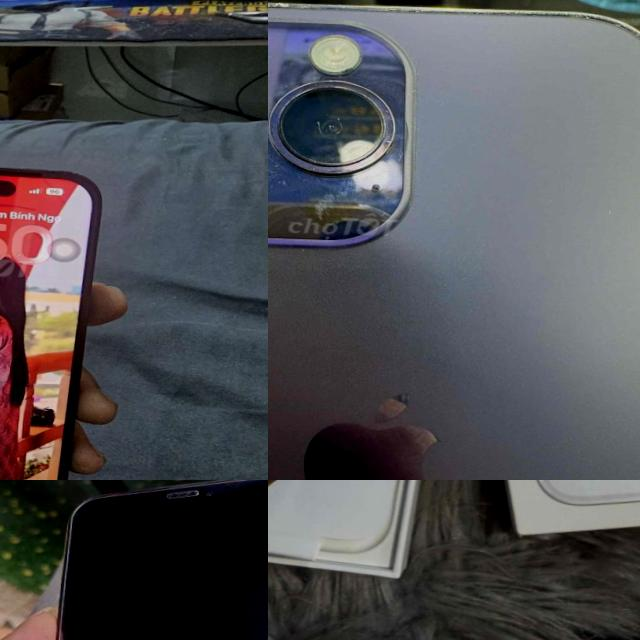scratch: (268, 0, 640, 57), (268, 167, 437, 234), (268, 96, 305, 159), (208, 480, 247, 499)
